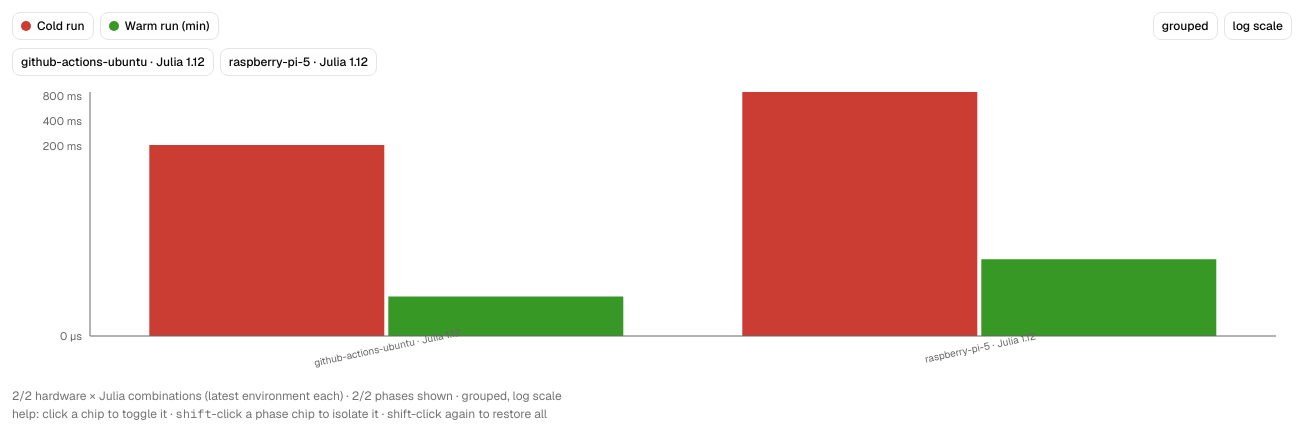
EnvironmentCompareChart › toggles combos on and off
The image size is (1304, 437).
Click the button "raspberry-pi-5 · Julia 1.12".
click(298, 62)  # box [220, 48, 377, 76]
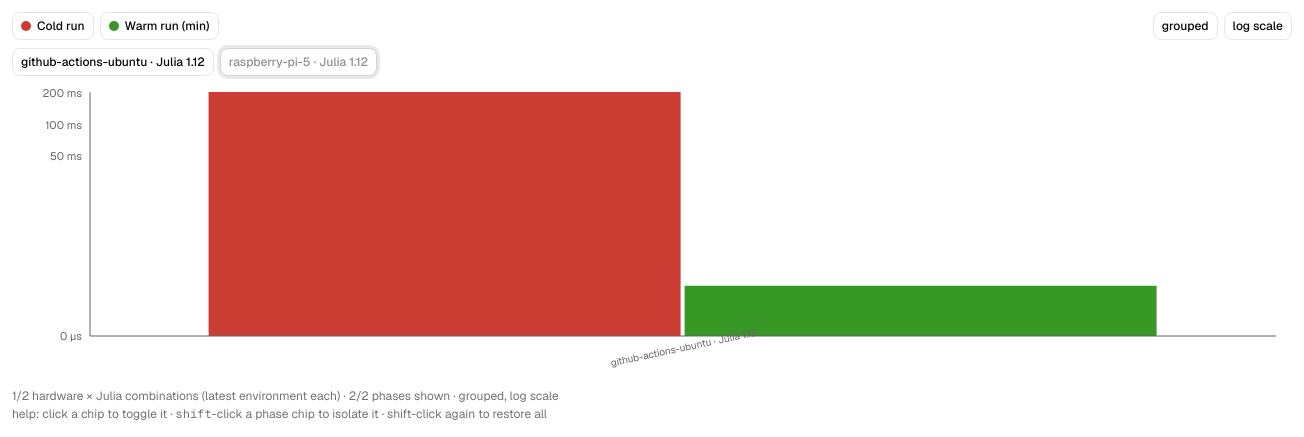
Expected: the element named "hardware and julia combinations" is shown, [12, 48, 377, 76]
Expected: the text "1/2 hardware × Julia combinations" is shown, [12, 388, 340, 404]
